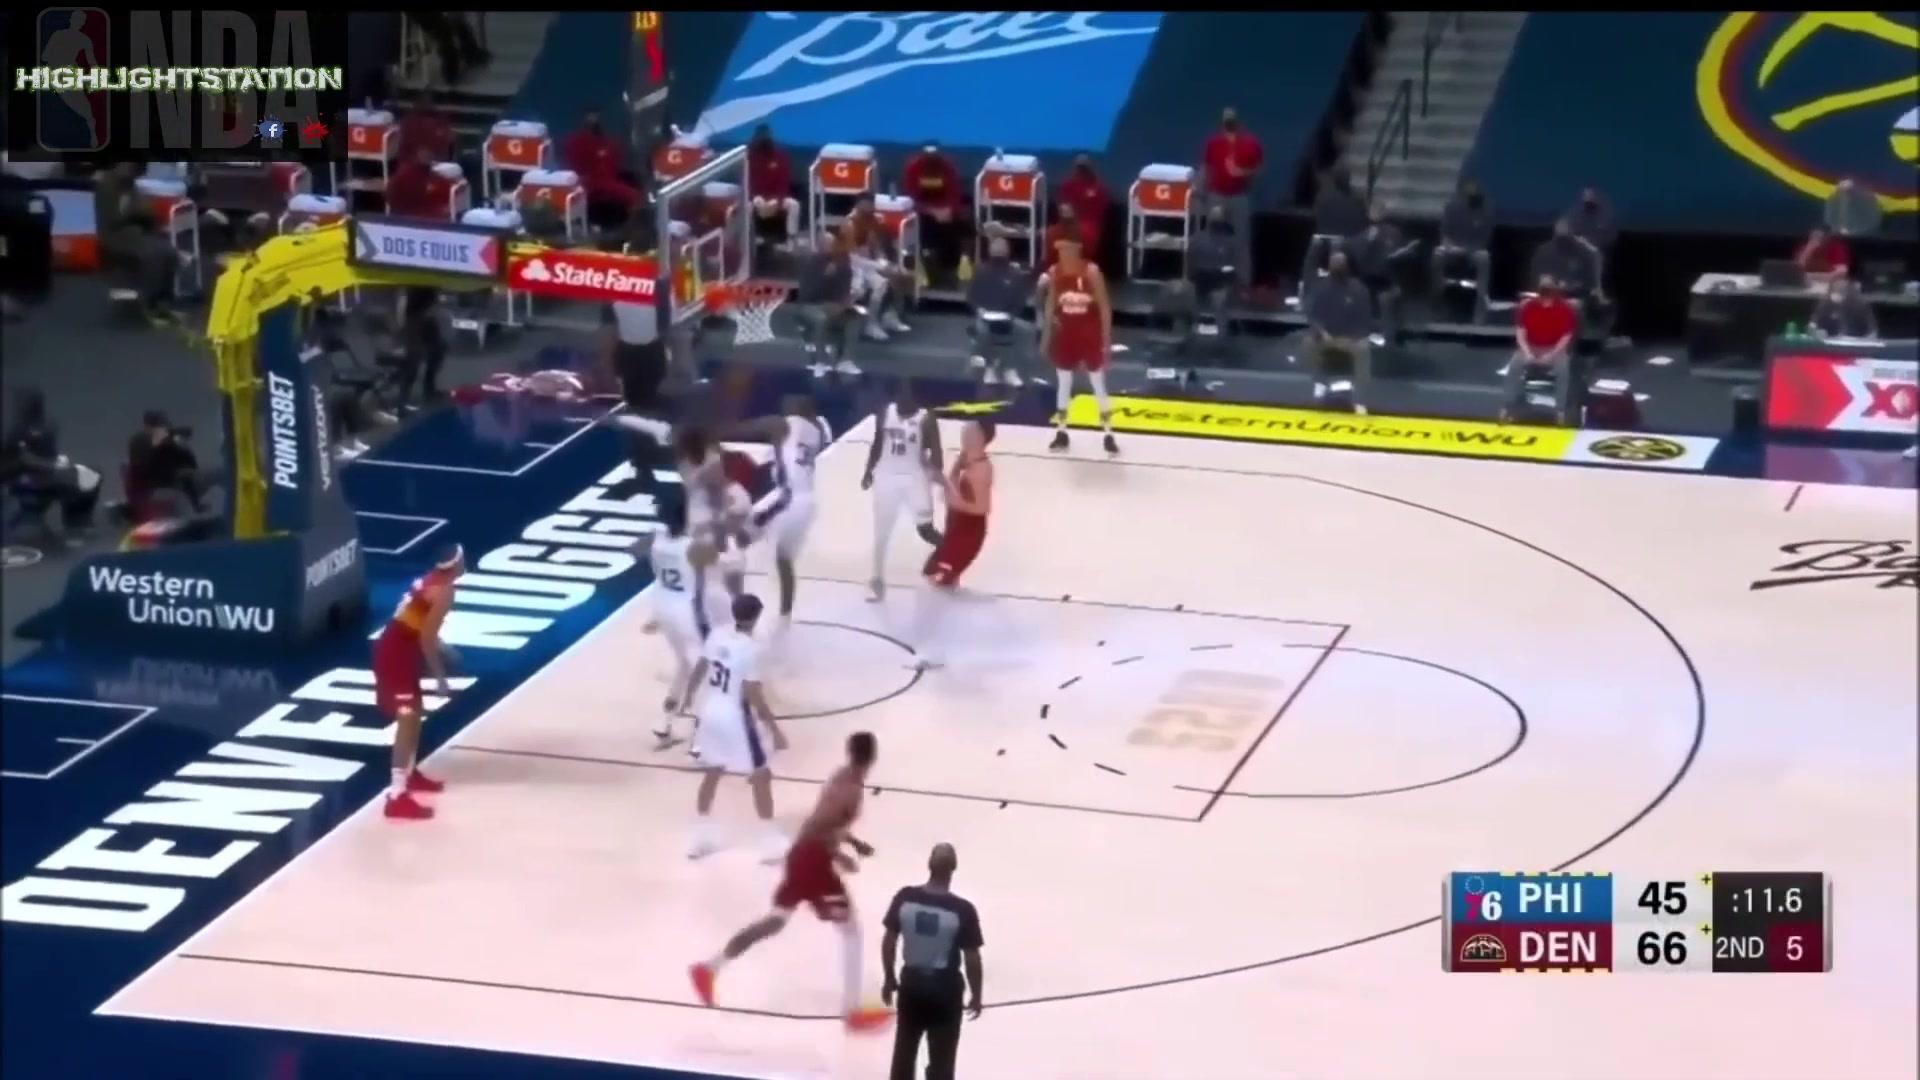no_foul: (858, 375, 1007, 661)
